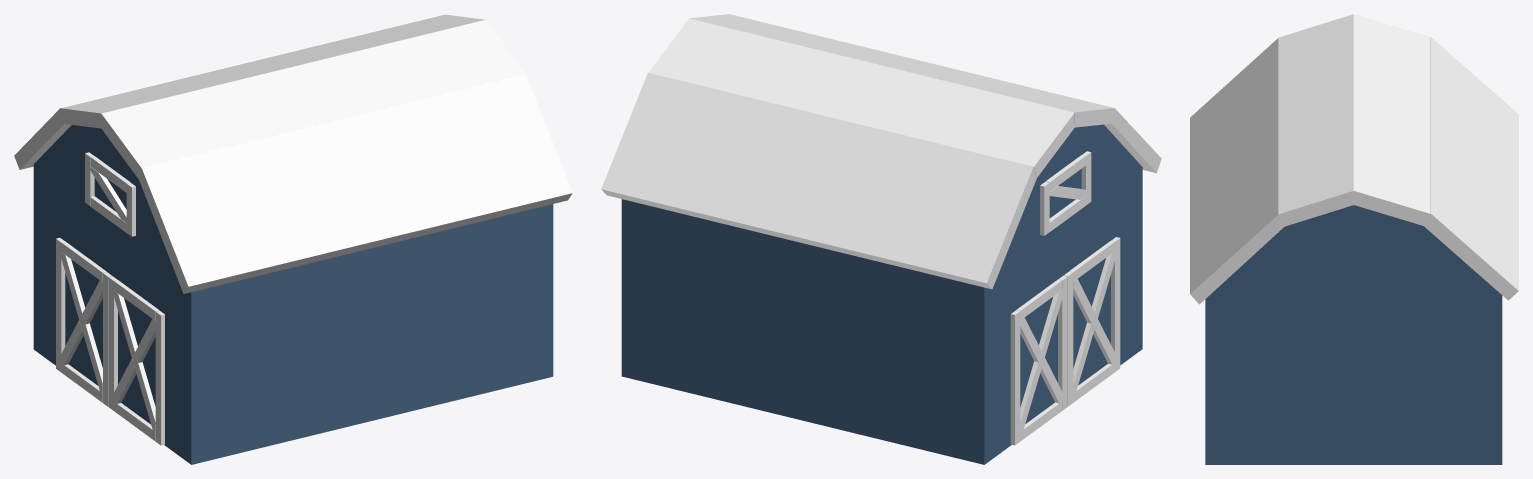
The model's file is blue_farm.glb.
The picture shows the model from 3 angles, left to right: view 1: azimuth 30°, elevation 25°; view 2: azimuth 150°, elevation 25°; view 3: azimuth 270°, elevation 25°; orthographic projection. The views are drawn at different scales.
Visible parts, largest first — view 1: Cube, Cube.023, Cube.022, Cube.021, Cube.020, Cube.013, Cube.006, Cube.009, Cube.014, Cube.001, Cube.004, Cube.005 (+3 smaller); view 2: Cube, Cube.020, Cube.021, Cube.022, Cube.001, Cube.023, Cube.013, Cube.004, Cube.009, Cube.006, Cube.014, Cube.012 (+7 smaller); view 3: Cube, Cube.020, Cube.023, Cube.021, Cube.022.
Boxes of the visible parts, box(x1,y1,x2,y2) form: Cube: box(33, 125, 553, 464); Cube.023: box(139, 74, 572, 293); Cube.022: box(101, 20, 525, 178); Cube.021: box(60, 14, 485, 128); Cube.020: box(14, 14, 444, 169); Cube.013: box(155, 310, 164, 445); Cube.006: box(113, 290, 155, 431); Cube.009: box(61, 252, 102, 393); Cube.014: box(108, 276, 117, 410); Cube.001: box(56, 237, 65, 372); Cube.004: box(103, 272, 111, 406); Cube.005: box(61, 241, 106, 281); Cube: box(621, 124, 1142, 464); Cube.020: box(601, 73, 1036, 289); Cube.021: box(648, 18, 1074, 177); Cube.022: box(690, 14, 1114, 127); Cube.001: box(1010, 310, 1020, 445); Cube.023: box(1104, 109, 1161, 173); Cube.013: box(1111, 237, 1120, 371); Cube.004: box(1058, 275, 1067, 410); Cube.009: box(1020, 317, 1062, 403); Cube.006: box(1073, 279, 1115, 364); Cube.014: box(1064, 271, 1073, 406); Cube.012: box(1020, 361, 1041, 431); Cube: box(1205, 205, 1502, 464); Cube.020: box(1420, 37, 1518, 300); Cube.023: box(1190, 38, 1286, 304); Cube.021: box(1350, 14, 1430, 225); Cube.022: box(1278, 14, 1353, 226).
Size of the model in its own units: 8.43 by 6.21 by 6.62.
